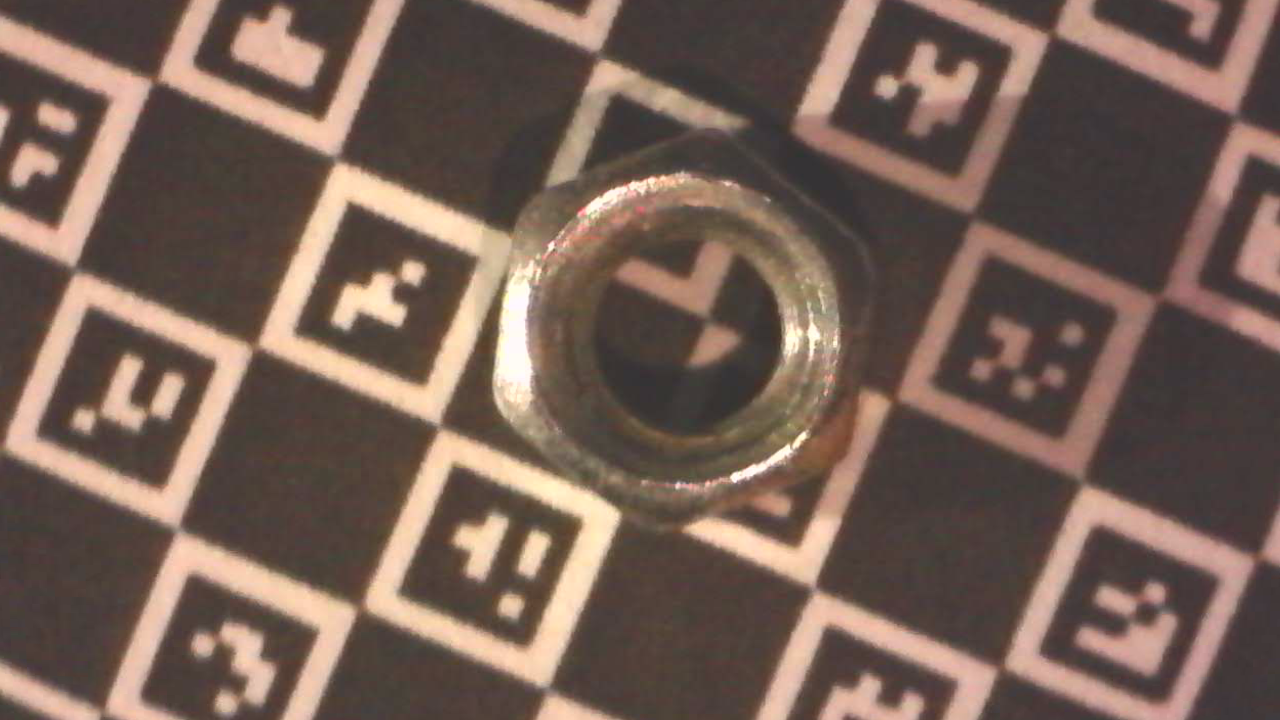Bolt: (490, 126, 875, 537)
